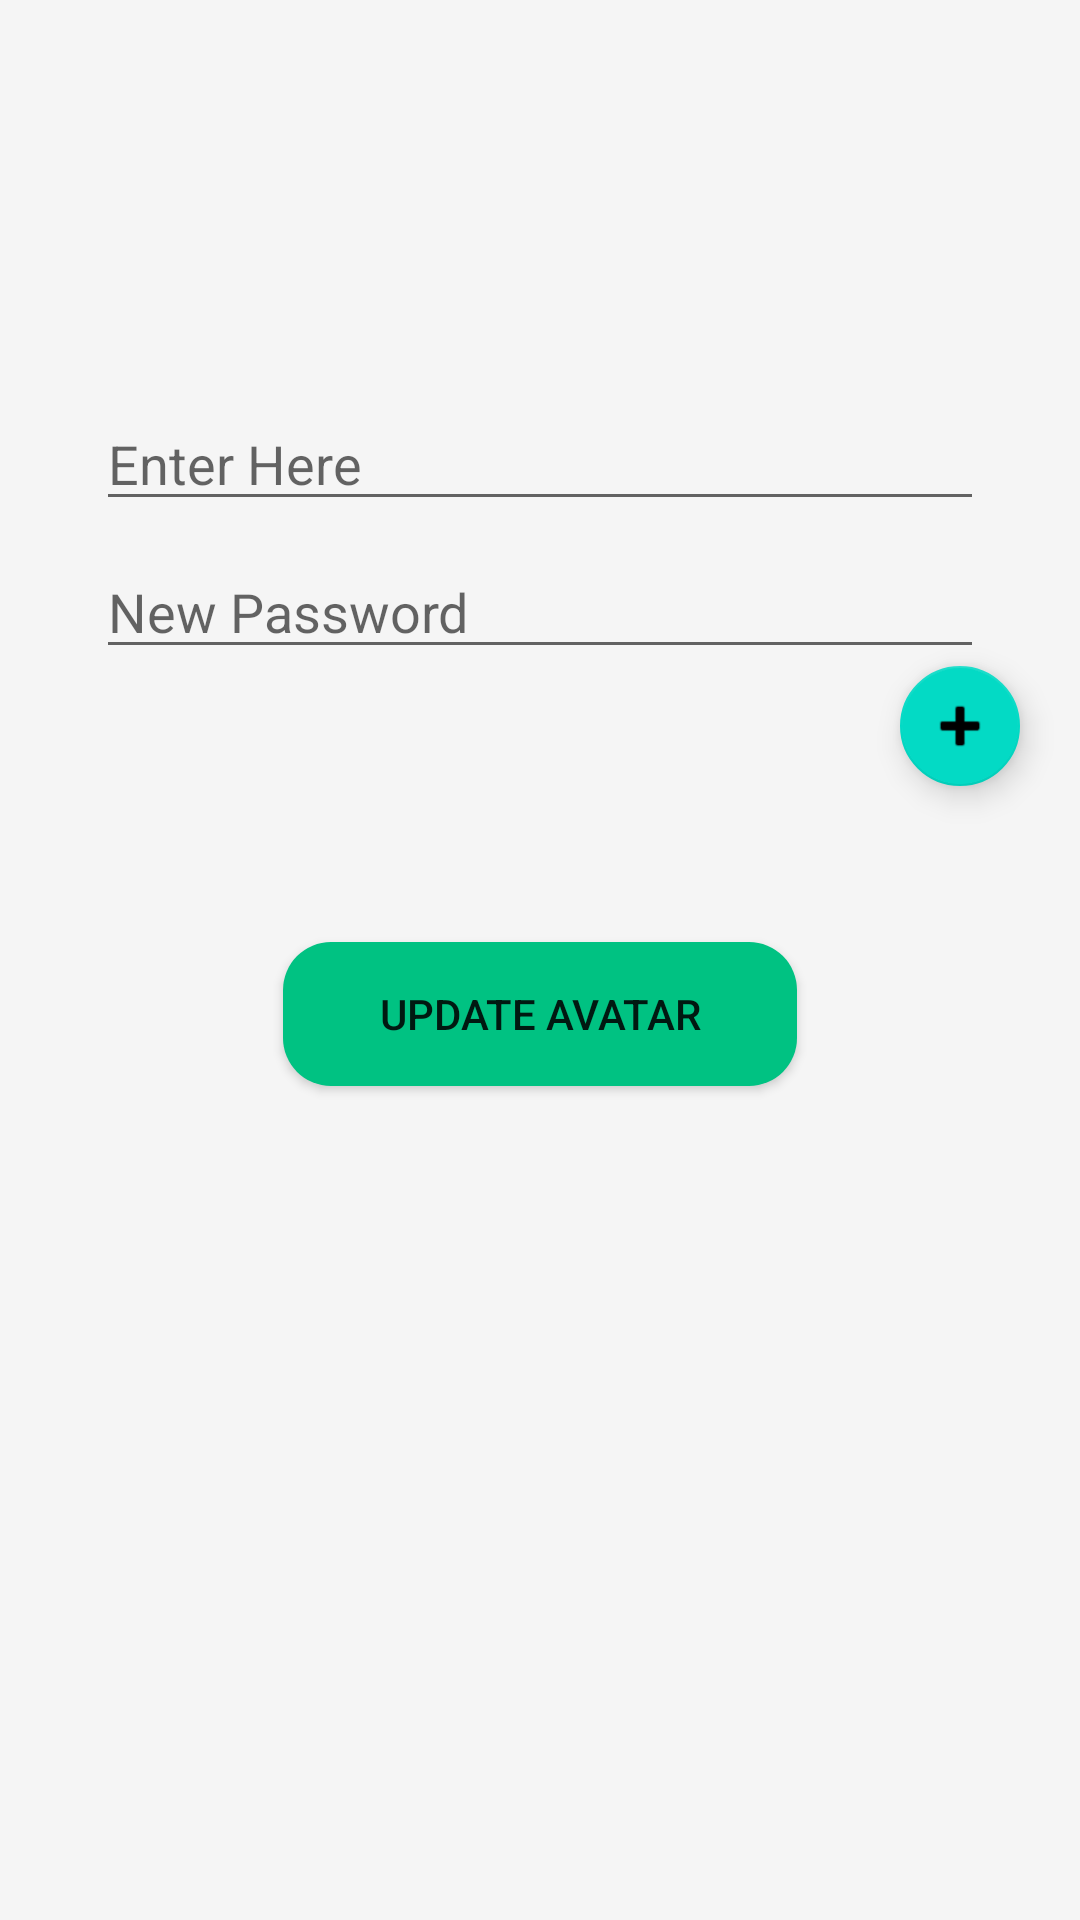

Locate icon controls on the screen. Image size 1080x1920, boxes as bbox=(x1, y1, x2, y2).
add: bbox=(900, 666, 1022, 790)
